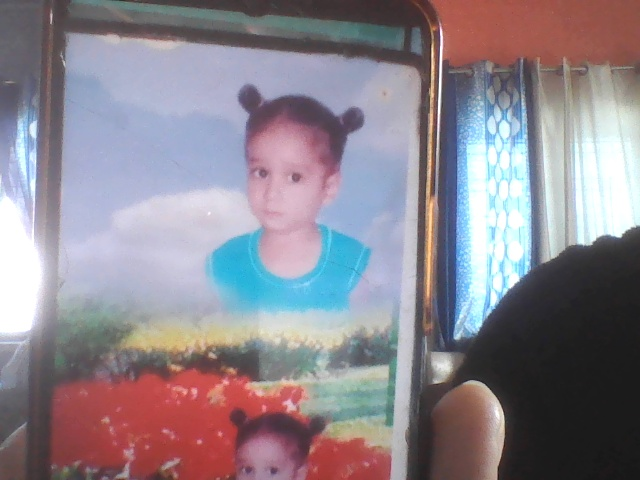fake: (243, 96, 343, 238)
